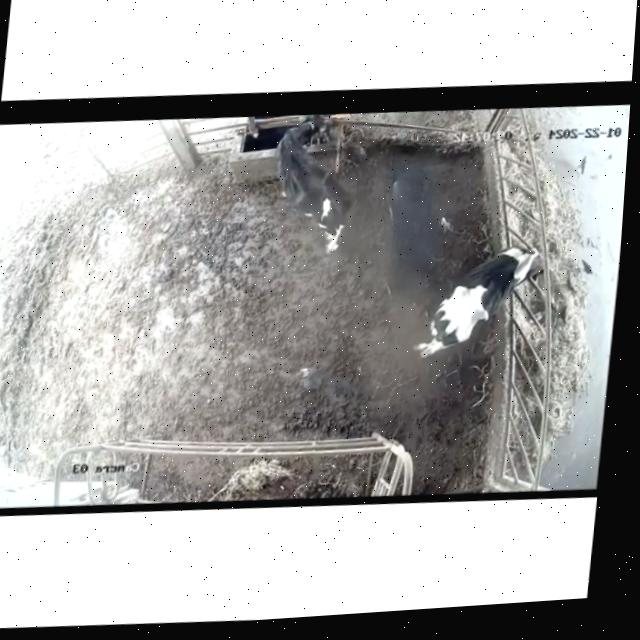drink: (265, 109, 341, 172)
eat: (480, 230, 570, 299)
